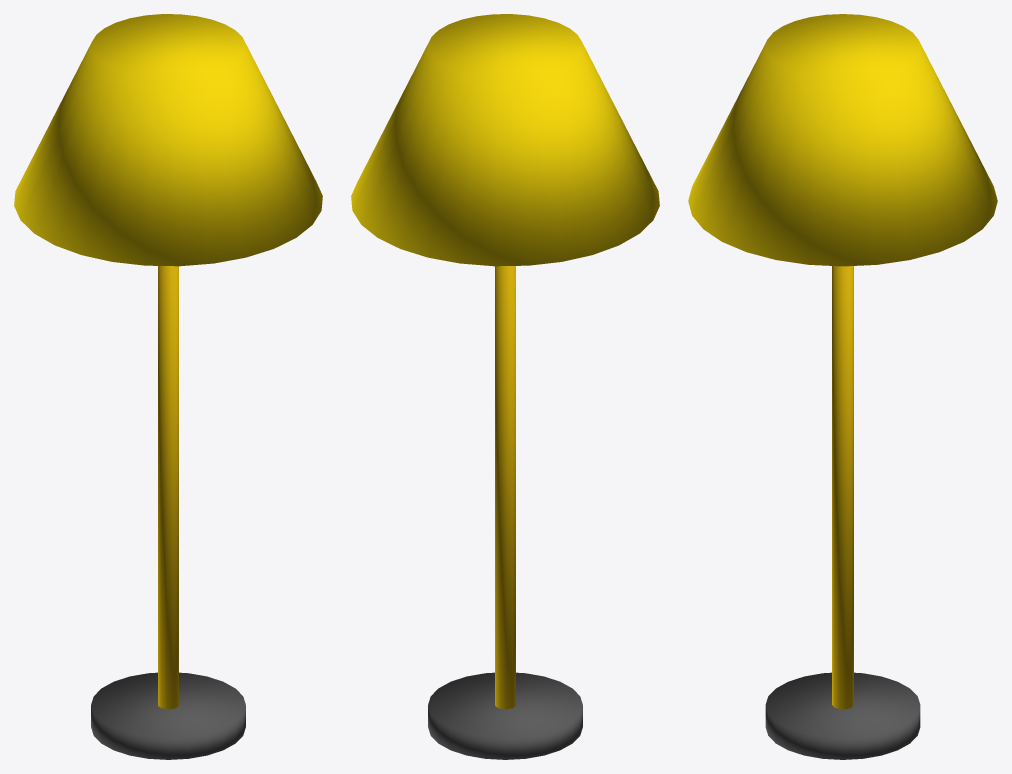
Rendered from floor_lamp.glb.
The picture shows the model from 3 angles, left to right: view 1: azimuth 30°, elevation 25°; view 2: azimuth 150°, elevation 25°; view 3: azimuth 270°, elevation 25°; orthographic projection.
Visible parts, largest first — view 1: Cone, Cylinder, Cylinder.001; view 2: Cone, Cylinder, Cylinder.001; view 3: Cone, Cylinder, Cylinder.001.
Part boxes in pixels (<box>): Cone: <box>14,14,322,266</box>; Cylinder: <box>91,672,245,759</box>; Cylinder.001: <box>158,266,178,709</box>; Cone: <box>351,14,659,266</box>; Cylinder: <box>428,672,582,759</box>; Cylinder.001: <box>495,266,515,709</box>; Cone: <box>688,14,997,266</box>; Cylinder: <box>765,672,920,759</box>; Cylinder.001: <box>832,266,853,709</box>.
Bounding box in the file's own units: 0.2 × 0.485 × 0.2.
